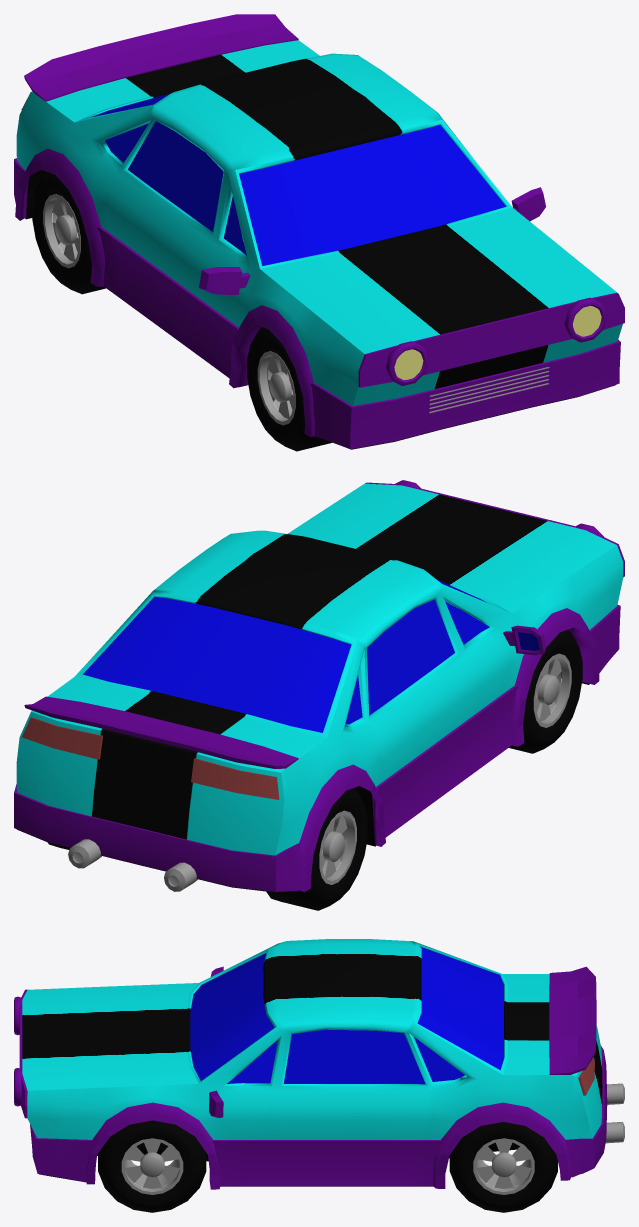
The model's file is Muscle Evolution2 Purple LineBlackCyan Blue LightGrey.gltf.
3 views of the same model, one above another, from view 1: azimuth 30°, elevation 25°; view 2: azimuth 150°, elevation 25°; view 3: azimuth 270°, elevation 25° (orthographic). The views are drawn at different scales.
Parts seen in each view (by area): view 1: evo2_body2_f1_dupl, evo2_frontGlass_f1_dupl, evo2_sill2_f1_dupl, evo2_spoiler2_f1_dupl, evo2_front_square2_f1_dupl, evo2_glasseBigR_f1_dupl, evo2_mudguardFR_f1_dupl, evo2_mudguardbR_f1_dupl, evo2_tire_rf1_f1_dupl, evo2_tire_rf_f1_dupl, evo2_rim_A_rf_f1_dupl, evo2_rim_A_rb_f1_dupl (+9 smaller); view 2: evo2_body2_f1_dupl, evo2_BackGlassGlass_f1_dupl, evo2_sill2_f1_dupl, evo2_spoiler2_f1_dupl, evo2_glasseBigR_f1_dupl, evo2_tire_rf_f1_dupl, evo2_mudguardbR_f1_dupl, evo2_mudguardFR_f1_dupl, evo2_tire_rf1_f1_dupl, evo2_rim_A_rf_f1_dupl, evo2_rim_A_rb_f1_dupl, evo2_redlightR2_f1_dupl (+5 smaller); view 3: evo2_body2_f1_dupl, evo2_sill2_f1_dupl, evo2_BackGlassGlass_f1_dupl, evo2_glasseBigL_f1_dupl, evo2_frontGlass_f1_dupl, evo2_tire_lf_f1_dupl, evo2_tire_lb_f1_dupl, evo2_spoiler2_f1_dupl, evo2_mudguardBL_f1_dupl, evo2_mudguardFL_f1_dupl, evo2_rim_A_lf_f1_dupl, evo2_rim_A_lb_f1_dupl (+4 smaller).
Boxes of the visible parts, left/top/right/bottom form: evo2_body2_f1_dupl: left=16, top=40, right=622, bottom=405; evo2_frontGlass_f1_dupl: left=239, top=125, right=505, bottom=265; evo2_sill2_f1_dupl: left=14, top=158, right=620, bottom=449; evo2_spoiler2_f1_dupl: left=24, top=14, right=298, bottom=101; evo2_front_square2_f1_dupl: left=358, top=292, right=624, bottom=387; evo2_glasseBigR_f1_dupl: left=128, top=121, right=223, bottom=231; evo2_mudguardFR_f1_dupl: left=229, top=305, right=314, bottom=437; evo2_mudguardbR_f1_dupl: left=15, top=148, right=104, bottom=286; evo2_tire_rf1_f1_dupl: left=247, top=327, right=331, bottom=451; evo2_tire_rf_f1_dupl: left=32, top=171, right=105, bottom=294; evo2_rim_A_rf_f1_dupl: left=257, top=351, right=295, bottom=425; evo2_rim_A_rb_f1_dupl: left=43, top=194, right=80, bottom=268; evo2_body2_f1_dupl: left=16, top=483, right=623, bottom=855; evo2_BackGlassGlass_f1_dupl: left=83, top=596, right=351, bottom=732; evo2_sill2_f1_dupl: left=14, top=605, right=620, bottom=891; evo2_spoiler2_f1_dupl: left=24, top=696, right=298, bottom=768; evo2_glasseBigR_f1_dupl: left=367, top=599, right=454, bottom=715; evo2_tire_rf_f1_dupl: left=266, top=787, right=367, bottom=910; evo2_mudguardbR_f1_dupl: left=299, top=764, right=385, bottom=891; evo2_mudguardFR_f1_dupl: left=512, top=608, right=599, bottom=746; evo2_tire_rf1_f1_dupl: left=509, top=629, right=582, bottom=753; evo2_rim_A_rf_f1_dupl: left=533, top=653, right=571, bottom=727; evo2_rim_A_rb_f1_dupl: left=319, top=810, right=356, bottom=884; evo2_redlightR2_f1_dupl: left=191, top=758, right=279, bottom=799; evo2_body2_f1_dupl: left=22, top=939, right=602, bottom=1159; evo2_sill2_f1_dupl: left=30, top=1045, right=607, bottom=1186; evo2_BackGlassGlass_f1_dupl: left=417, top=946, right=503, bottom=1070; evo2_glasseBigL_f1_dupl: left=283, top=1029, right=425, bottom=1084; evo2_frontGlass_f1_dupl: left=190, top=953, right=274, bottom=1080; evo2_tire_lf_f1_dupl: left=98, top=1120, right=206, bottom=1212; evo2_tire_lb_f1_dupl: left=449, top=1122, right=557, bottom=1212; evo2_spoiler2_f1_dupl: left=549, top=966, right=596, bottom=1074; evo2_mudguardBL_f1_dupl: left=433, top=1102, right=570, bottom=1188; evo2_mudguardFL_f1_dupl: left=86, top=1102, right=220, bottom=1189; evo2_rim_A_lf_f1_dupl: left=121, top=1138, right=183, bottom=1194; evo2_rim_A_lb_f1_dupl: left=473, top=1138, right=534, bottom=1194.
Bounding box in the file's own units: 177 × 112 × 331.
7 materials, 1 textured.
